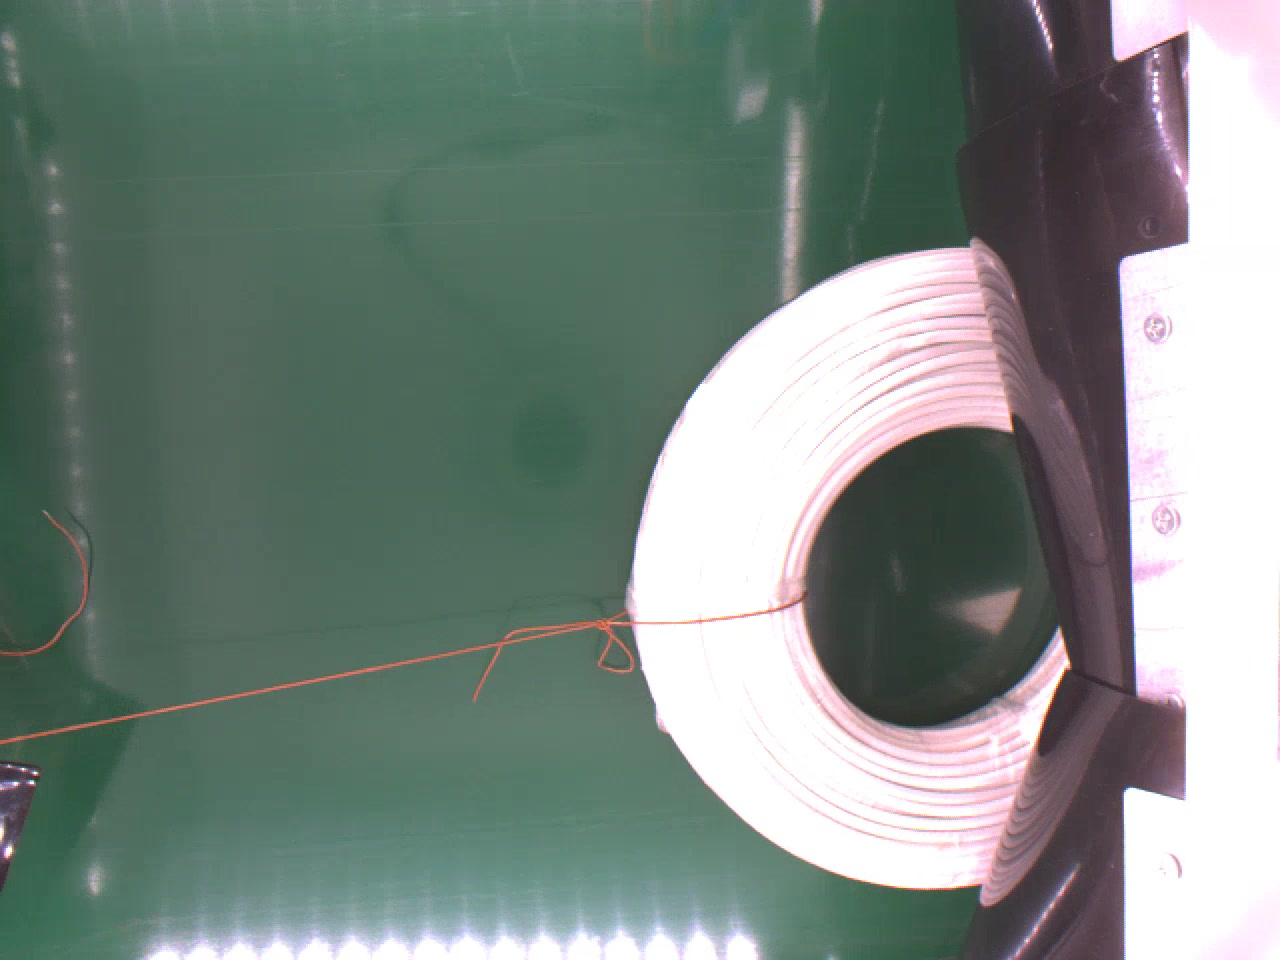white: (633, 243, 1072, 887)
